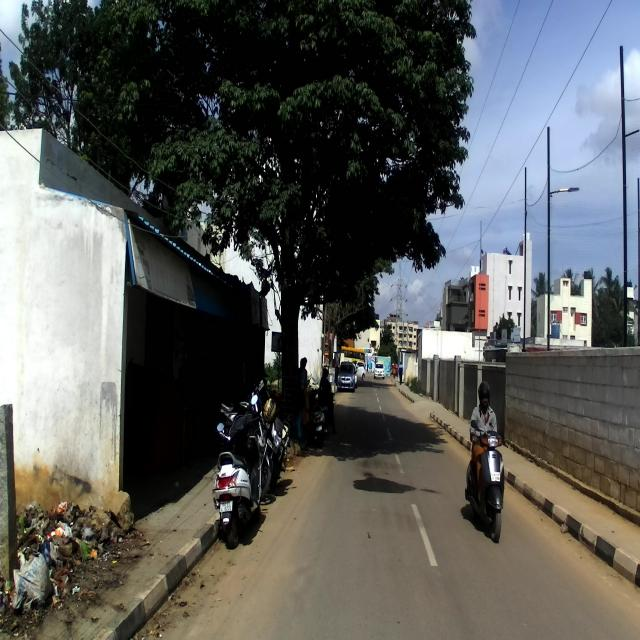motorcycle_TVS: (258, 398, 290, 502)
scooter: (212, 412, 266, 550), (465, 418, 505, 543)
